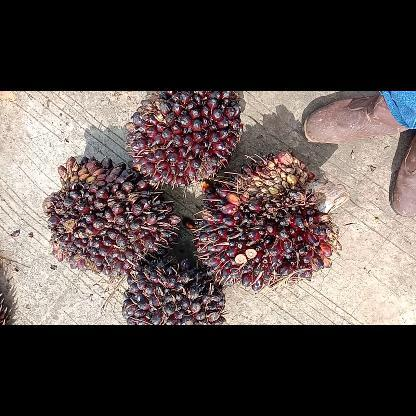TBS mentah: (188, 147, 341, 297), (40, 152, 182, 279), (121, 91, 245, 191), (118, 254, 228, 324)
